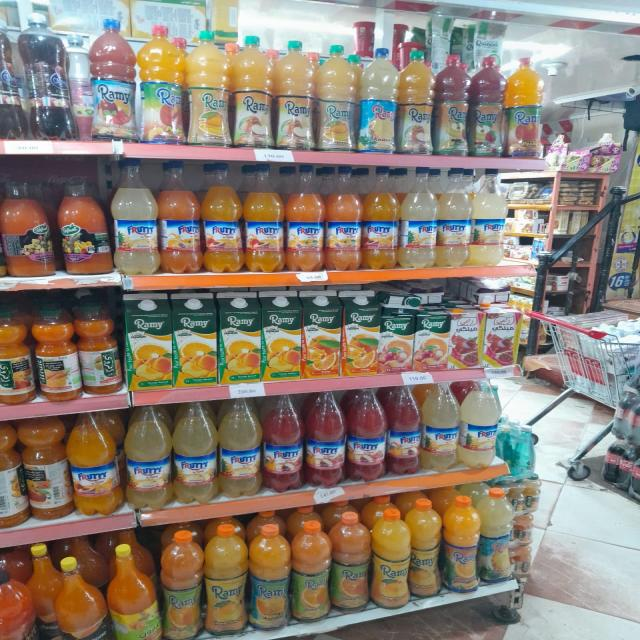ifruit_plastique: (17, 412, 74, 524), (32, 304, 80, 400), (74, 301, 121, 394), (0, 309, 36, 403)
ramy_carton: (122, 293, 172, 389), (124, 297, 174, 384), (170, 296, 220, 380), (298, 293, 344, 378), (217, 297, 263, 380), (259, 295, 305, 375), (262, 290, 301, 380), (298, 293, 344, 369), (342, 292, 380, 376), (342, 292, 383, 367), (378, 301, 415, 367), (480, 306, 520, 364), (378, 310, 415, 371), (412, 309, 448, 370), (449, 307, 484, 364)
ramy_plastique: (106, 157, 158, 276), (137, 24, 187, 146), (88, 19, 137, 142), (65, 409, 119, 518), (184, 31, 232, 148), (124, 402, 173, 512), (155, 158, 201, 274), (229, 34, 275, 149), (158, 530, 205, 640), (171, 399, 219, 505), (274, 39, 318, 151), (314, 44, 359, 152), (201, 160, 244, 273), (244, 162, 286, 273), (206, 526, 248, 637), (218, 397, 262, 499), (370, 504, 412, 610), (329, 508, 371, 614), (290, 518, 332, 624), (162, 530, 202, 640), (285, 162, 325, 272), (261, 393, 304, 494), (249, 524, 289, 631), (358, 48, 399, 152), (304, 390, 347, 489), (344, 386, 388, 482), (395, 49, 435, 154), (324, 164, 362, 272), (364, 166, 403, 270), (467, 56, 507, 156), (403, 498, 441, 603), (502, 59, 542, 158), (440, 494, 478, 598), (400, 165, 438, 268), (432, 53, 469, 155), (459, 376, 499, 470), (419, 378, 458, 473), (471, 167, 507, 268), (478, 490, 515, 586)
